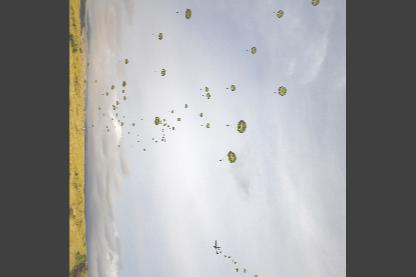Be200: (214, 238, 221, 251), (132, 140, 134, 146), (117, 106, 118, 109)
